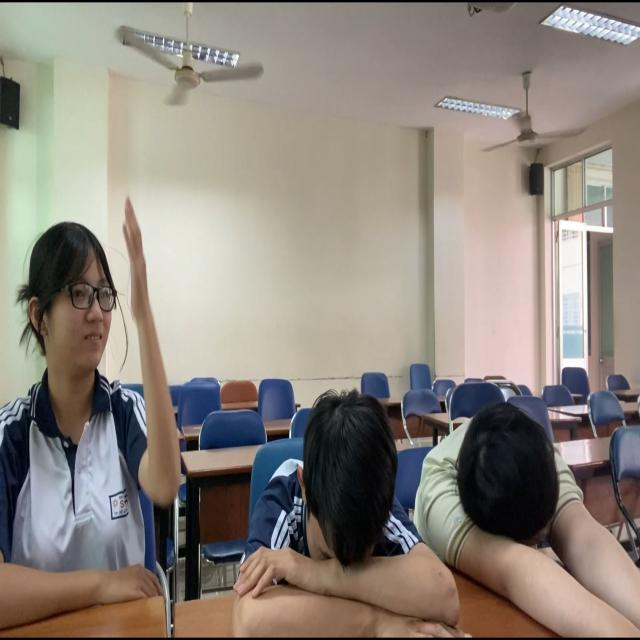raise_hand: (1, 144, 193, 640)
sleep: (200, 347, 483, 640), (407, 343, 640, 640)
